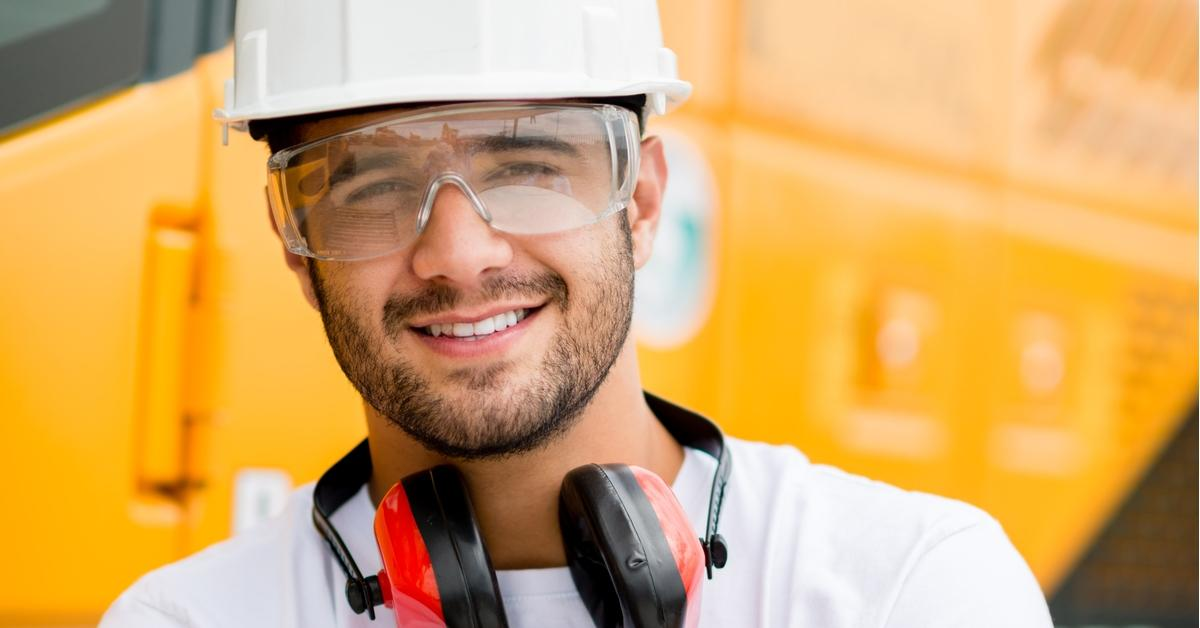helmet: (203, 0, 692, 130)
no_wear: (98, 487, 1054, 628)
